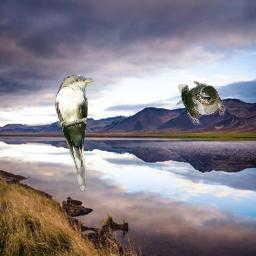Cuckoo: (55, 74, 94, 194)
Swallow: (175, 81, 225, 126)
